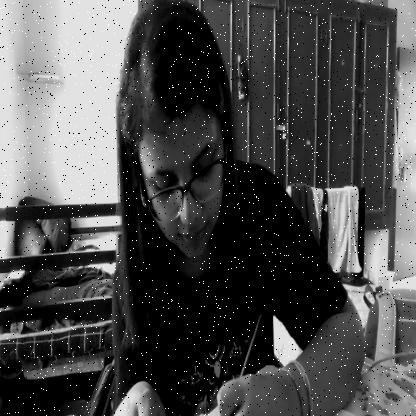Normal: (114, 6, 227, 272)
